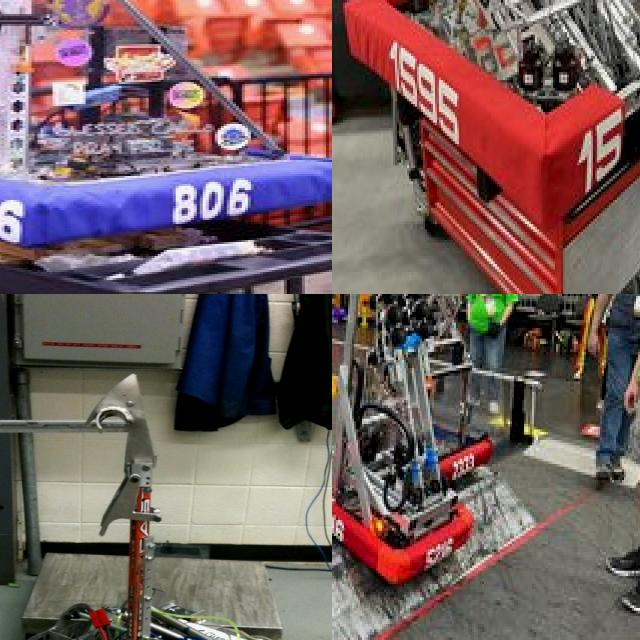FRC-Robots: (0, 0, 332, 280), (0, 360, 332, 640), (334, 0, 640, 182), (332, 295, 469, 610), (406, 294, 540, 488)
